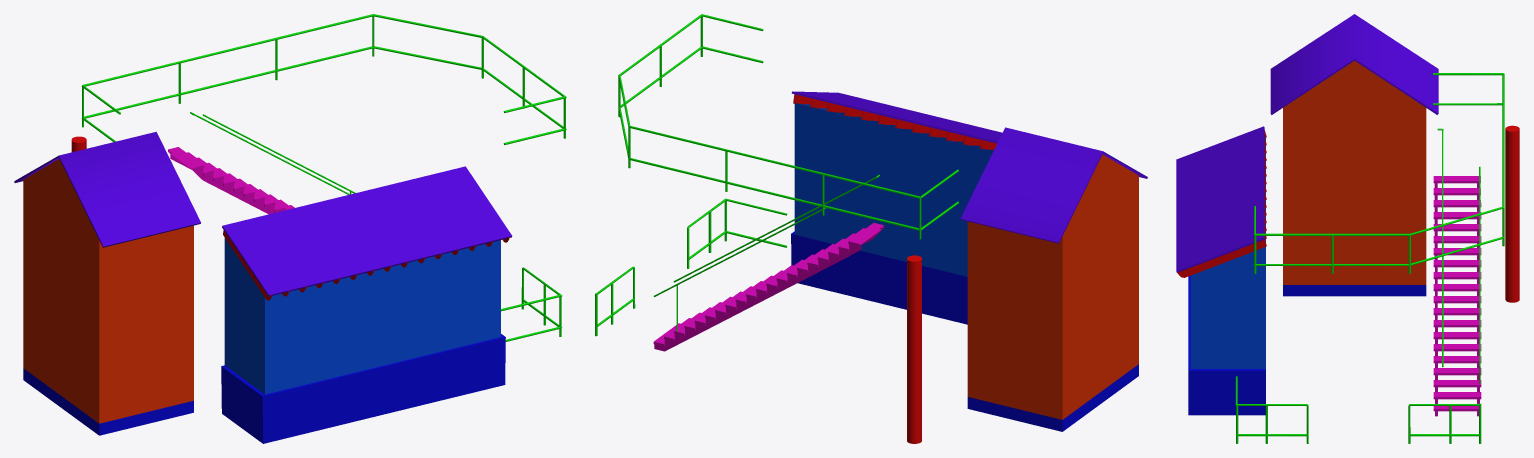
File: Hotel_sub_Body.fbx
3 renders of one model, left to right at view 1: azimuth 30°, elevation 25°; view 2: azimuth 150°, elevation 25°; view 3: azimuth 270°, elevation 25°, orthographic. The views are drawn at different scales.
Parts seen in each view (by area): view 1: Back_shelf; view 2: Back_shelf; view 3: Back_shelf.
Part boxes in pixels (bbox=[...]): Back_shelf: bbox=[14, 14, 566, 443]; Back_shelf: bbox=[595, 14, 1147, 443]; Back_shelf: bbox=[1176, 14, 1519, 443].
Bounding box in the file's own units: 1235 × 657 × 860.
